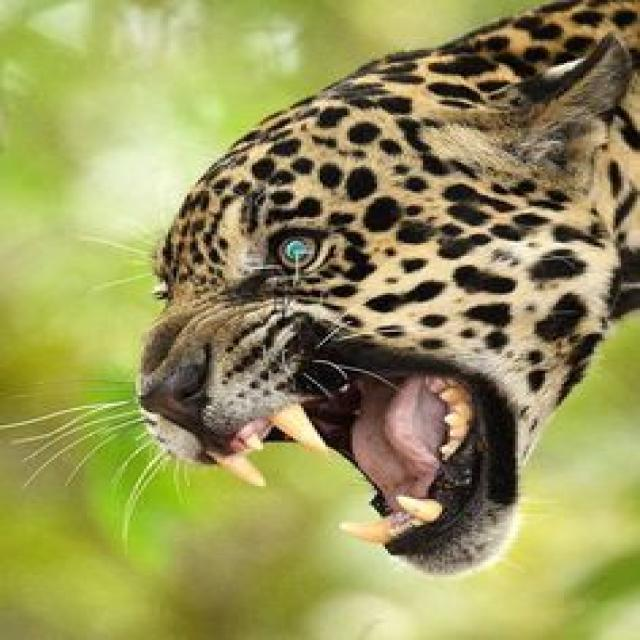Carnivorous: (136, 0, 640, 584)
